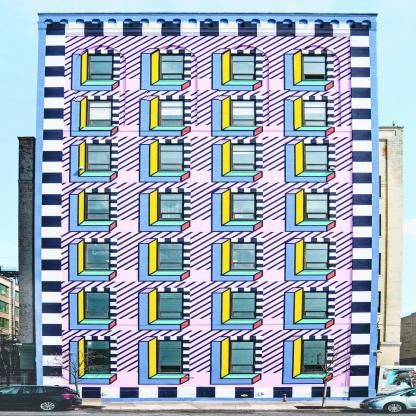Building Outline: (35, 12, 378, 401)
Dont: (0, 343, 110, 411), (302, 339, 366, 407), (359, 386, 416, 411), (282, 393, 287, 402)
Facade: (40, 15, 376, 401)
Floor: (37, 231, 377, 277), (37, 182, 377, 227), (37, 281, 376, 326), (37, 136, 377, 178), (38, 91, 377, 132)
Floor Slab: (37, 132, 377, 136), (37, 178, 377, 182), (37, 227, 377, 231), (37, 277, 377, 281), (37, 326, 377, 330), (38, 87, 377, 91)
Ground Floor: (37, 330, 376, 401)
Top Floor: (39, 36, 375, 86)
Window: (84, 340, 110, 374), (302, 340, 328, 374), (229, 340, 255, 374), (157, 340, 182, 374), (303, 143, 329, 171), (158, 143, 184, 171), (231, 242, 257, 270), (84, 242, 110, 270), (303, 291, 329, 319), (85, 192, 110, 221), (158, 192, 183, 221), (231, 192, 256, 221), (304, 192, 329, 221), (159, 53, 185, 80), (230, 53, 256, 80), (87, 53, 113, 80), (84, 292, 110, 319), (157, 292, 183, 319), (231, 292, 257, 319), (231, 143, 256, 171), (86, 143, 111, 171), (304, 242, 329, 270), (158, 242, 183, 270), (87, 100, 113, 126), (159, 100, 185, 126), (302, 100, 328, 126), (301, 54, 326, 80), (230, 100, 255, 126)
